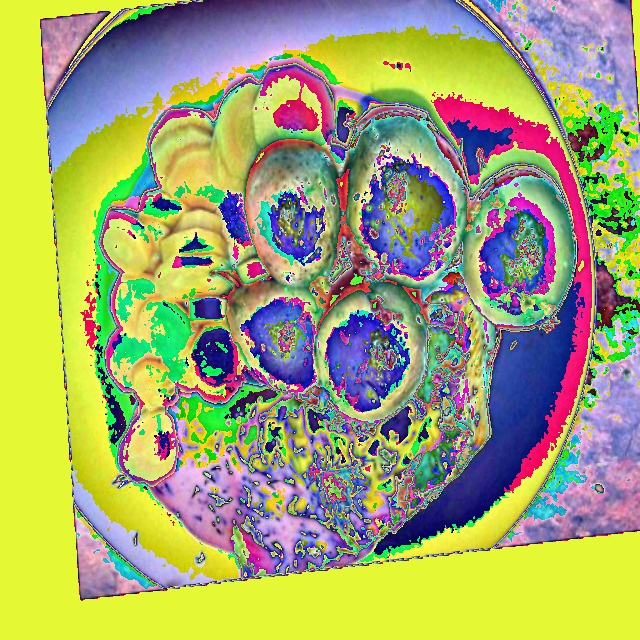background: (99, 65, 577, 578)
